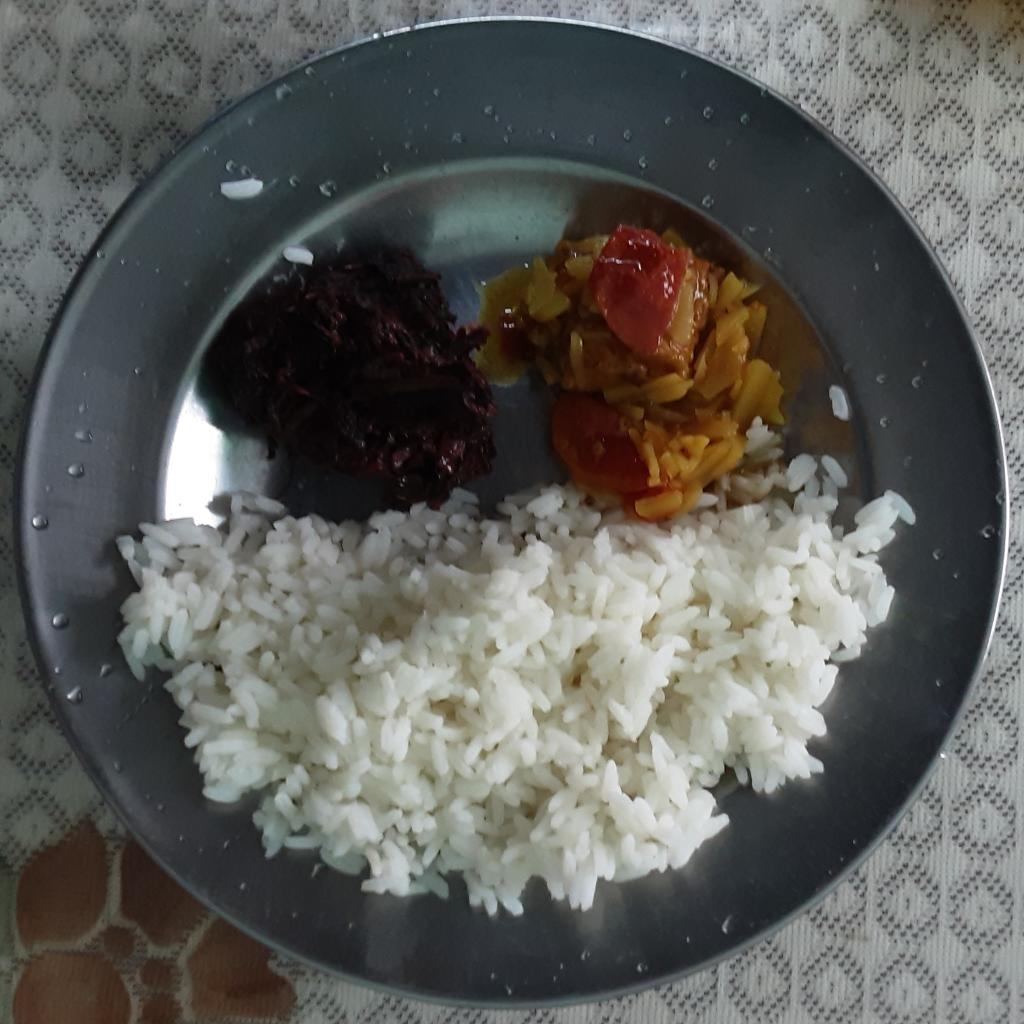fish: (573, 256, 714, 390)
lal-shak: (195, 239, 497, 504)
potato: (478, 242, 787, 523)
rice: (114, 413, 918, 917)
tomato: (584, 223, 682, 350)
